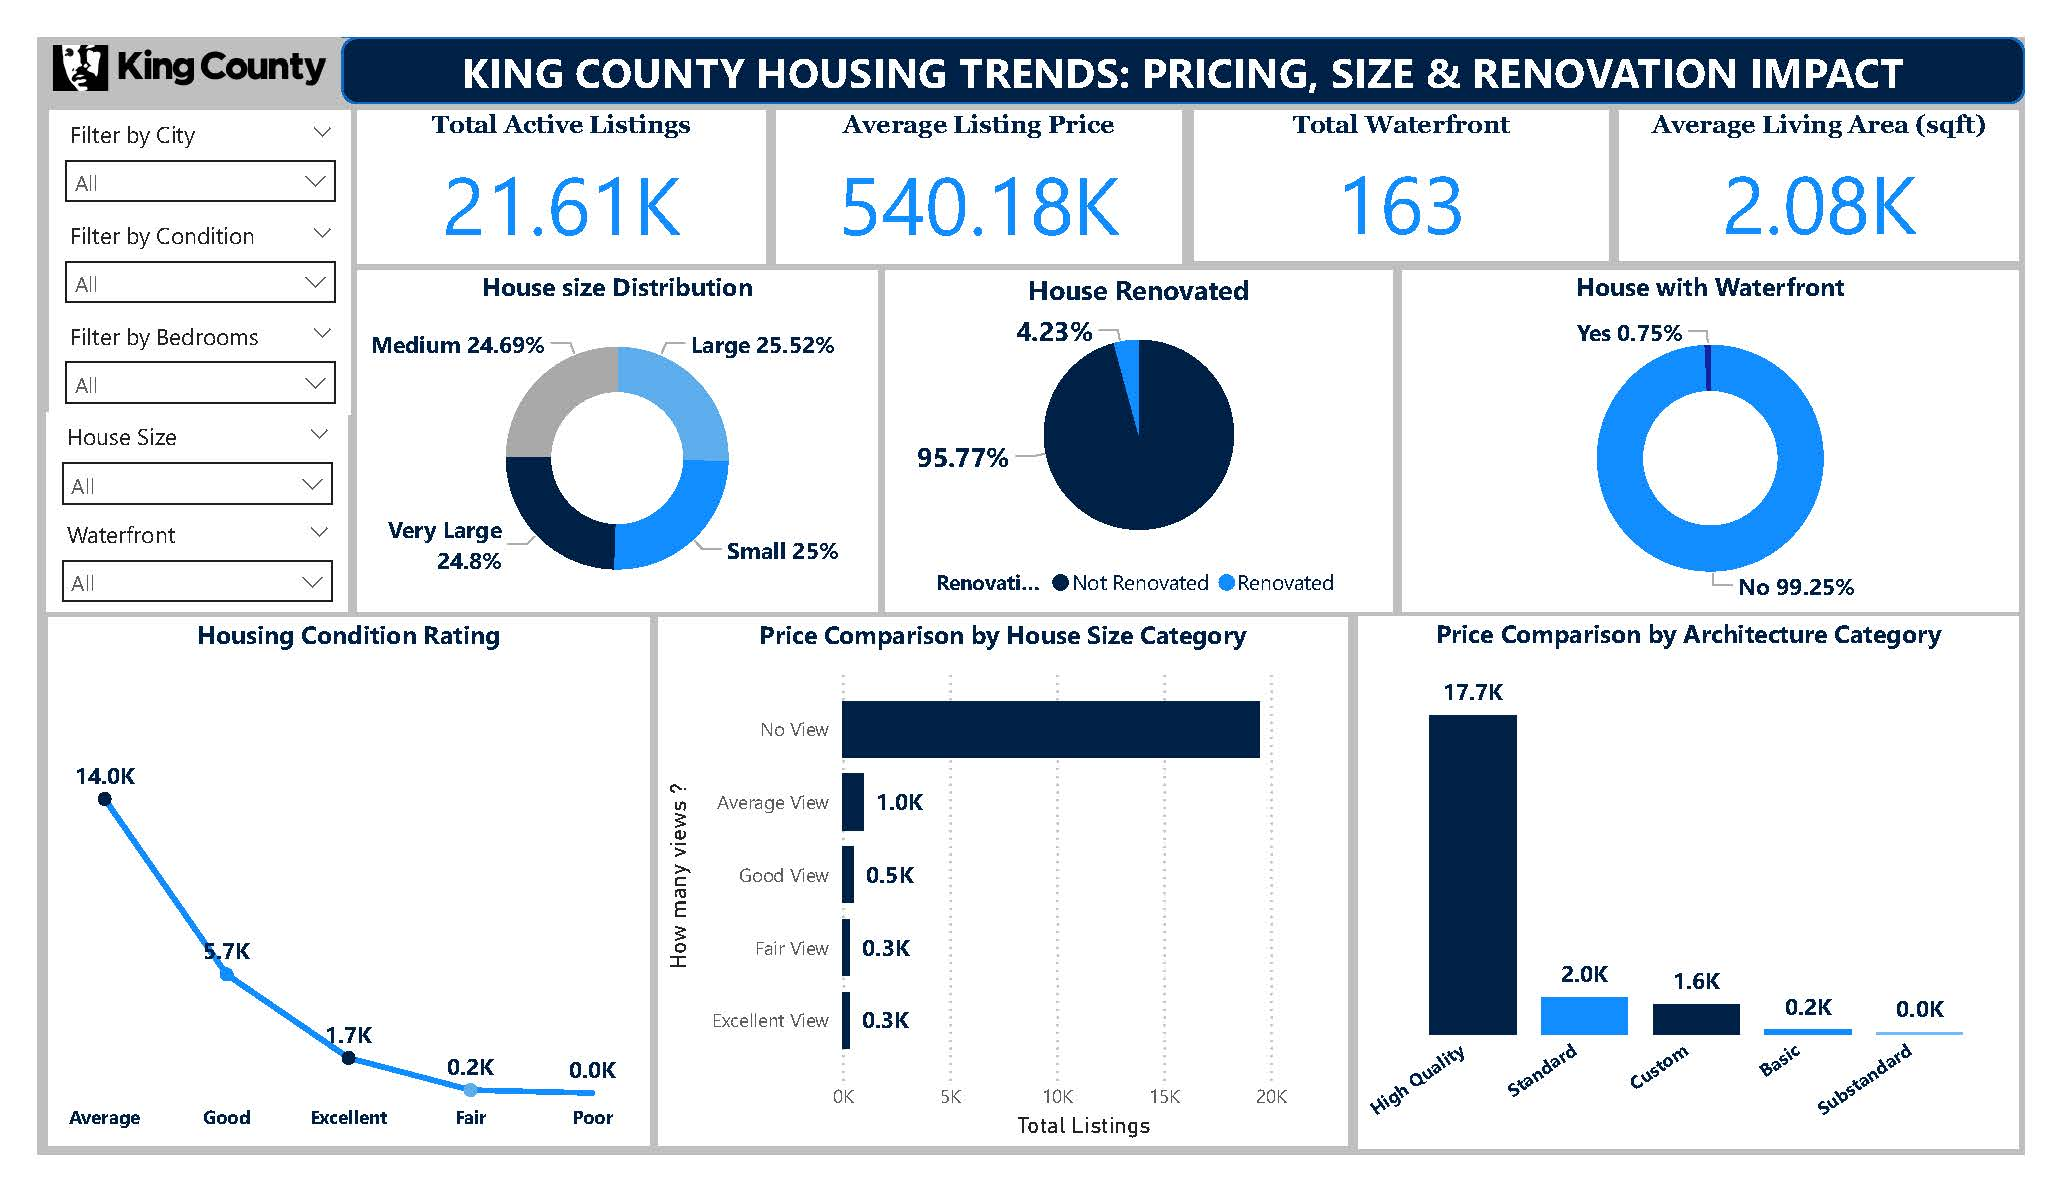

This screenshot's page, from the dashboard's own definition file:
{"tool":"powerbi","page":{"name":"Page 1","canvas":[1280,720],"ordinal":0},"visuals":[{"type":"slicer","fields":{"Values":["KC Cleaned.City"]},"box":[7.8,47.1,193.6,65.2],"z":0,"group":"g2"},{"type":"donutChart","title":"House size Distribution","fields":{"Category":["KC Cleaned.House Size"],"Y":["KC Cleaned.Total Listings"]},"box":[205.7,150,335.7,220],"z":0},{"type":"card","title":"Total Active Listings","fields":{"Values":["KC Cleaned.Total Listings"]},"box":[206,47,262.9,98.6],"z":1000,"group":"g1"},{"type":"slicer","fields":{"Values":["KC Cleaned.condition"]},"box":[7.8,112.3,193.6,65.2],"z":1000,"group":"g2"},{"type":"pieChart","title":"House Renovated","fields":{"Category":["KC Cleaned.Renovation Status"],"Y":["KC Cleaned.Total Listings"]},"box":[545.7,150,327.1,220],"z":1000},{"type":"shape","box":[195.7,0,1084.3,42.9],"z":2000},{"type":"slicer","fields":{"Values":["KC Cleaned.bedrooms"]},"box":[7.8,177.4,193.6,65.2],"z":2000,"group":"g2"},{"type":"image","box":[0,0,195.7,38.6],"z":3000},{"type":"card","title":"Average Listing Price","fields":{"Values":["KC Cleaned.Average Price"]},"box":[476,47,261.4,98.6],"z":3000,"group":"g1"},{"type":"group","id":"g1","title":"Group 2","box":[206,47,1069.6,98.6],"z":4000},{"type":"slicer","fields":{"Values":["KC Cleaned.House Size"]},"box":[5.7,241.9,194.3,65.4],"z":4000,"group":"g2"},{"type":"card","title":"Total Waterfront","fields":{"Values":["Sum(KC Cleaned.waterfront)"]},"box":[744.5,47,267.1,97.1],"z":5000,"group":"g1"},{"type":"group","id":"g2","title":"Group 1","box":[5.7,47.1,195.7,322.9],"z":5000},{"type":"slicer","fields":{"Values":["KC Cleaned.City","KC Cleaned.waterfront"]},"box":[5.7,304.6,194.3,65.4],"z":5000,"group":"g2"},{"type":"columnChart","title":"Price Comparison by Architecture Category","fields":{"Category":["KC Cleaned.Architechture"],"Y":["KC Cleaned.Total Listings"]},"box":[851.4,372.9,424.3,342.9],"z":6000},{"type":"card","title":"Average Living Area (sqft)","fields":{"Values":["KC Cleaned.Average Living Area"]},"box":[1018.9,47.2,256.7,97.2],"z":7000,"group":"g1"},{"type":"lineChart","title":"Housing Condition Rating","fields":{"Category":["KC Cleaned.Habitability"],"Y":["KC Cleaned.Total Listings"]},"box":[7.1,374.3,387.1,340],"z":7000},{"type":"donutChart","title":"House with Waterfront","fields":{"Category":["KC Cleaned.Are there Waterfronts ?"],"Y":["KC Cleaned.Total Listings"]},"box":[878.6,150,397.1,220],"z":8000},{"type":"barChart","title":"Price Comparison by House Size Category","fields":{"Category":["KC Cleaned.How many views ?"],"Y":["KC Cleaned.Total Listings"]},"box":[400,374.3,444.3,340],"z":9000}]}

Visuals, with their boxes in screenshot pixels (x1, y1, x2, y2), scaled from the page's 1280x720 canvas onto the 2062x1192 screenshot:
slicer - KC Cleaned.City: rect(13, 78, 324, 186)
"House size Distribution" donutChart: rect(331, 248, 872, 613)
"Total Active Listings" card: rect(332, 78, 755, 241)
slicer - KC Cleaned.condition: rect(13, 186, 324, 294)
"House Renovated" pieChart: rect(879, 248, 1406, 613)
shape: rect(315, 0, 2061, 71)
slicer - KC Cleaned.bedrooms: rect(13, 294, 324, 402)
image: rect(0, 0, 315, 64)
"Average Listing Price" card: rect(767, 78, 1188, 241)
"Group 2" group: rect(332, 78, 2055, 241)
slicer - KC Cleaned.House Size: rect(9, 400, 322, 509)
"Total Waterfront" card: rect(1199, 78, 1630, 239)
"Group 1" group: rect(9, 78, 324, 613)
slicer - KC Cleaned.City x KC Cleaned.waterfront: rect(9, 504, 322, 613)
"Price Comparison by Architecture Category" columnChart: rect(1372, 617, 2055, 1185)
"Average Living Area (sqft)" card: rect(1641, 78, 2055, 239)
"Housing Condition Rating" lineChart: rect(11, 620, 635, 1183)
"House with Waterfront" donutChart: rect(1415, 248, 2055, 613)
"Price Comparison by House Size Category" barChart: rect(644, 620, 1360, 1183)
